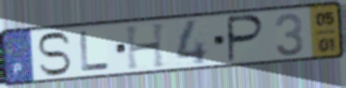3: (273, 11, 305, 57)
4: (174, 18, 212, 67)
H: (124, 21, 169, 72)
L: (78, 30, 112, 73)
P: (225, 13, 267, 64)
S: (35, 31, 73, 78)
